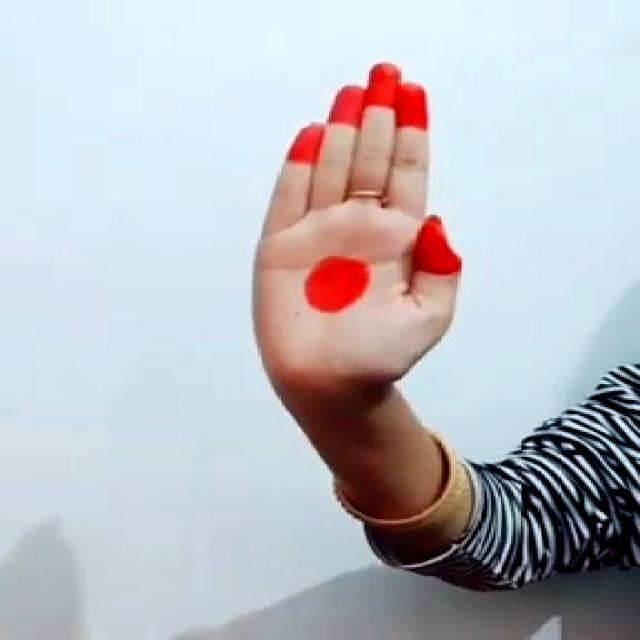Pataka: (232, 47, 500, 394)
bangle: (321, 432, 491, 538)
